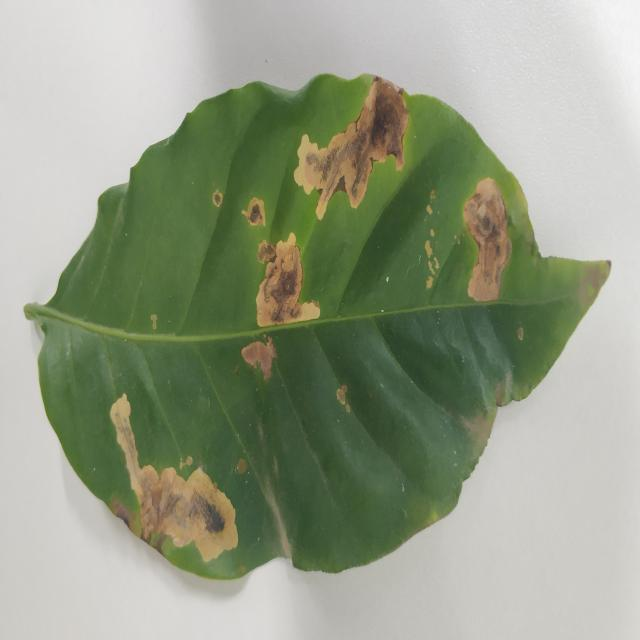Plaga-Minador: (23, 75, 613, 585)
